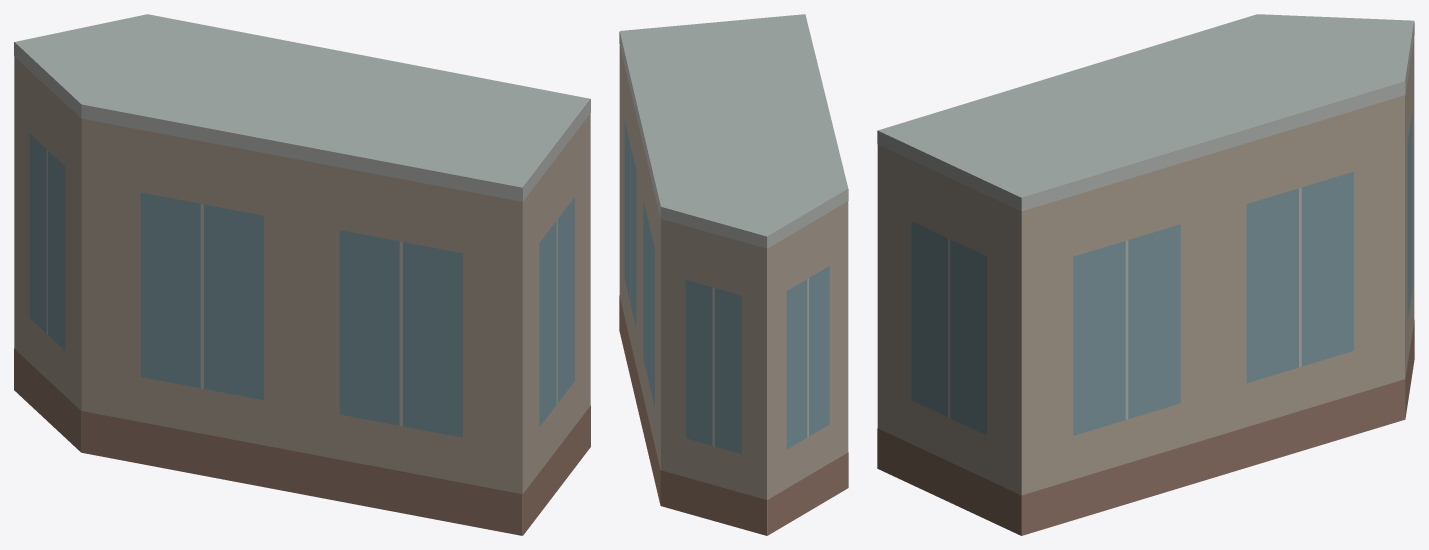
The model's file is survey-upis-32464907.glb.
3 renders of one model, left to right at view 1: azimuth 30°, elevation 25°; view 2: azimuth 150°, elevation 25°; view 3: azimuth 270°, elevation 25°, orthographic. The views are drawn at different scales.
Visible parts, largest first — view 1: survey-upis-32464907.tmp; view 2: survey-upis-32464907.tmp; view 3: survey-upis-32464907.tmp.
Boxes of the visible parts, x1,y1,x2,y2 form: survey-upis-32464907.tmp: (14, 14, 590, 535); survey-upis-32464907.tmp: (619, 14, 848, 535); survey-upis-32464907.tmp: (877, 14, 1414, 535).
Size of the model in its own units: 6.65 by 5.7 by 8.21.
